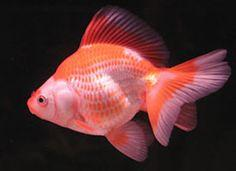goldfish: (18, 31, 221, 155)
